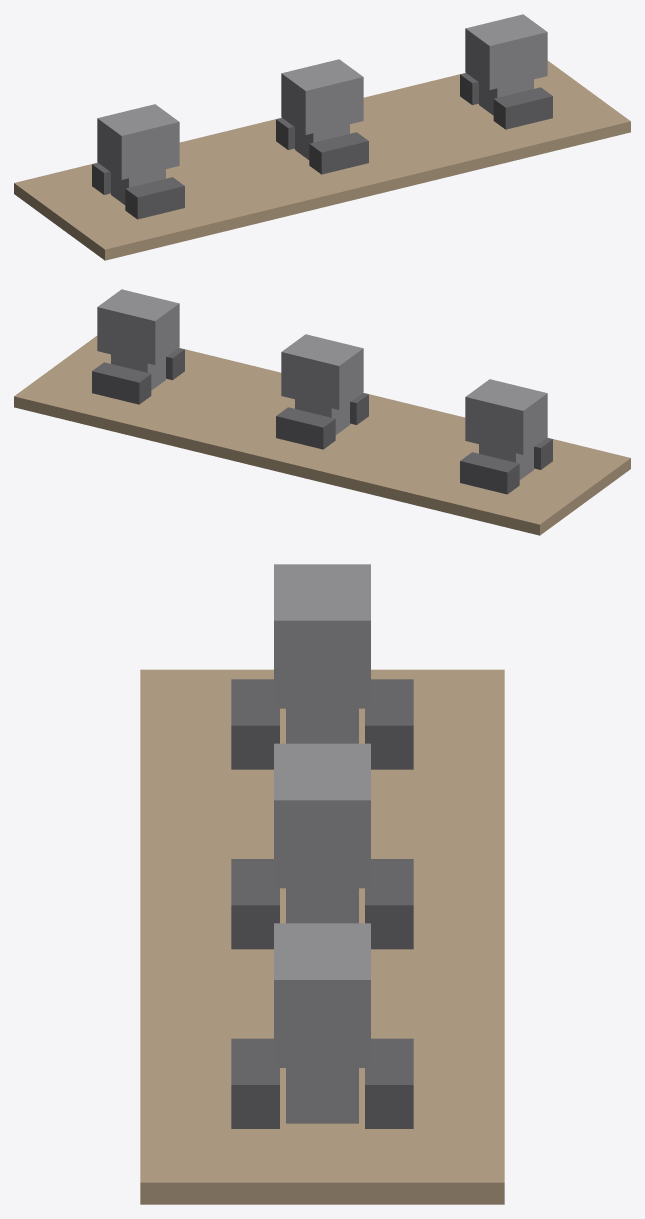
Rendered from prop-feather-wedge-set.fbx.
3 renders of one model, top to bottom at view 1: azimuth 30°, elevation 25°; view 2: azimuth 150°, elevation 25°; view 3: azimuth 270°, elevation 25°, orthographic. The views are drawn at different scales.
Visible parts, largest first — view 1: prop-feather-wedge-set; view 2: prop-feather-wedge-set; view 3: prop-feather-wedge-set.
Boxes of the visible parts, box(x1,y1,x2,y2) form: prop-feather-wedge-set: box(14, 14, 630, 260); prop-feather-wedge-set: box(14, 289, 630, 535); prop-feather-wedge-set: box(140, 564, 504, 1204).
Bounding box in the file's own units: 20 × 3.2 × 6.
